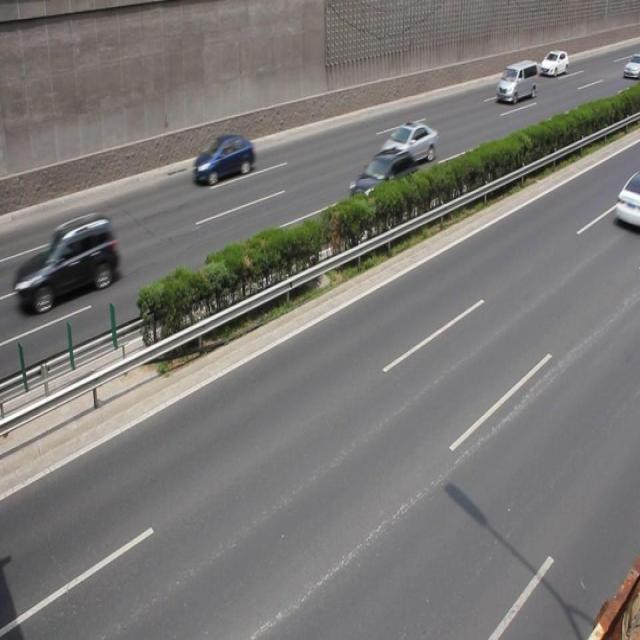car: (13, 213, 122, 312), (348, 144, 419, 215), (193, 135, 254, 187), (376, 118, 437, 168), (614, 171, 640, 231), (538, 50, 568, 77)
truck: (495, 61, 536, 104)
